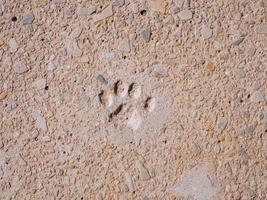cat: (91, 77, 175, 134)
